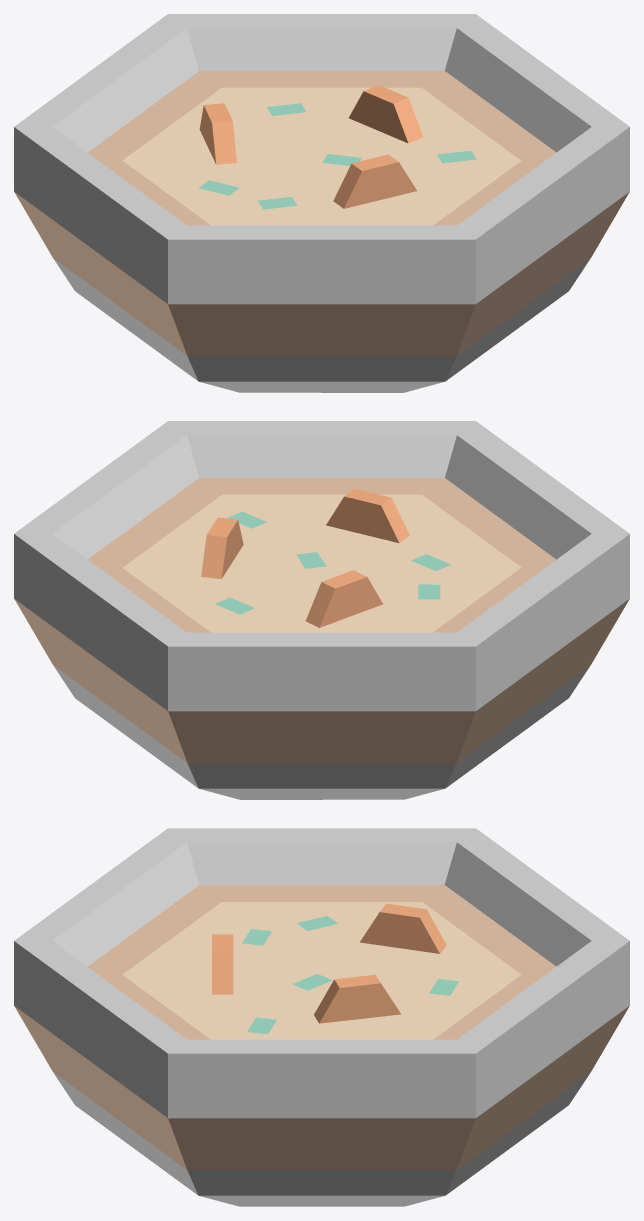
File: bowl-soup.glb
3 views of the same model, one above another, from view 1: azimuth 30°, elevation 25°; view 2: azimuth 150°, elevation 25°; view 3: azimuth 270°, elevation 25° (orthographic).
Visible parts, largest first — view 1: bowlSoup; view 2: bowlSoup; view 3: bowlSoup.
Boxes of the visible parts, <box> form: bowlSoup: <box>14,14,629,392</box>; bowlSoup: <box>14,421,629,799</box>; bowlSoup: <box>14,828,629,1206</box>.
Size of the model in its own units: 0.5023 by 0.2139 by 0.5798.
